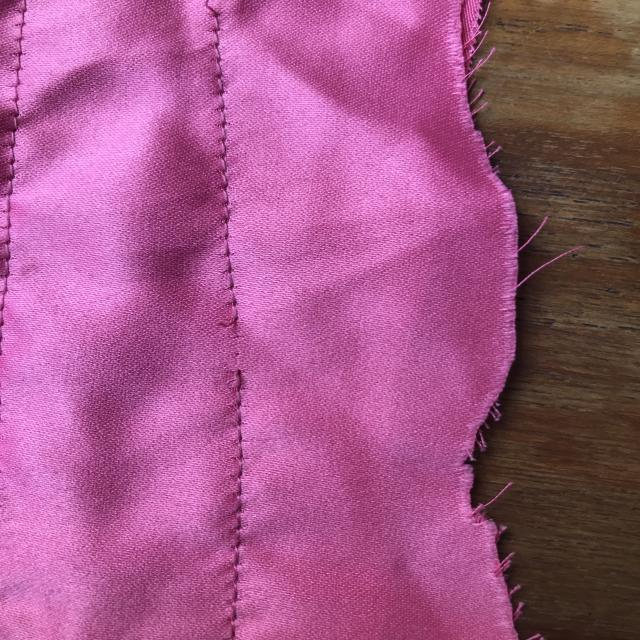broken: (203, 304, 263, 396)
